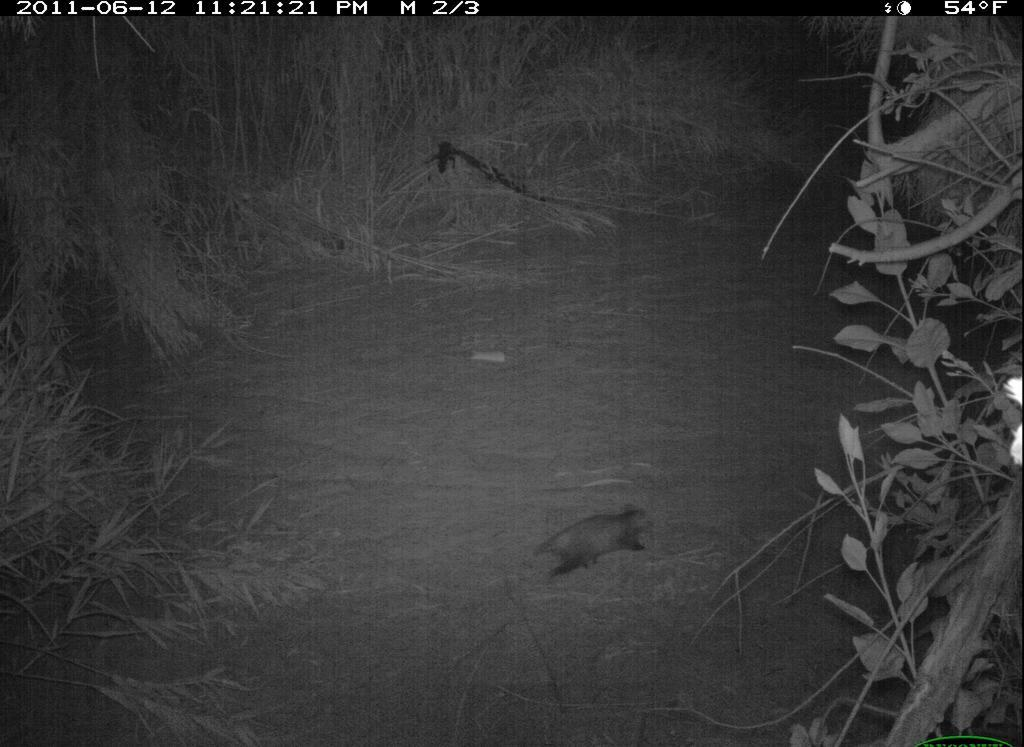opossum: (526, 494, 675, 589)
